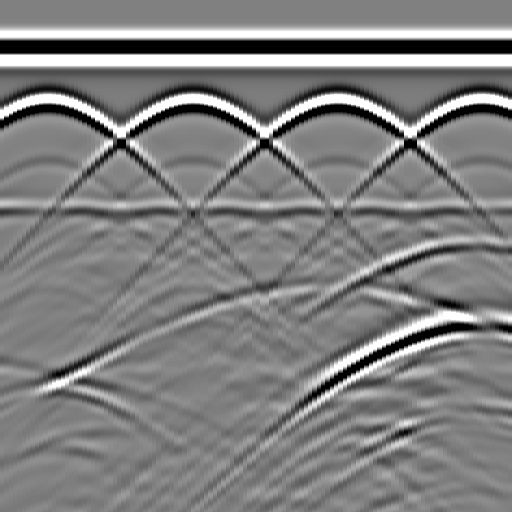grout_surface: (1, 195, 512, 225)
rebar: (26, 82, 66, 122), (170, 82, 210, 122), (315, 82, 355, 122), (459, 82, 499, 122)
rock_surface: (1, 287, 511, 386)
water_void: (442, 218, 502, 258)
